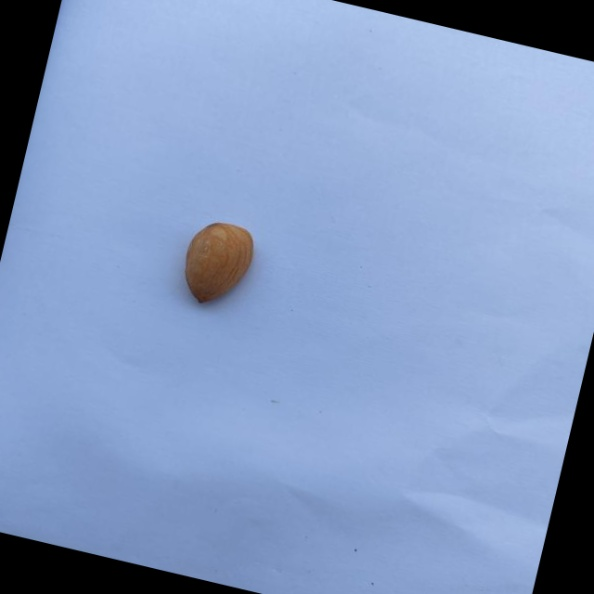grade2: (173, 213, 266, 316)
